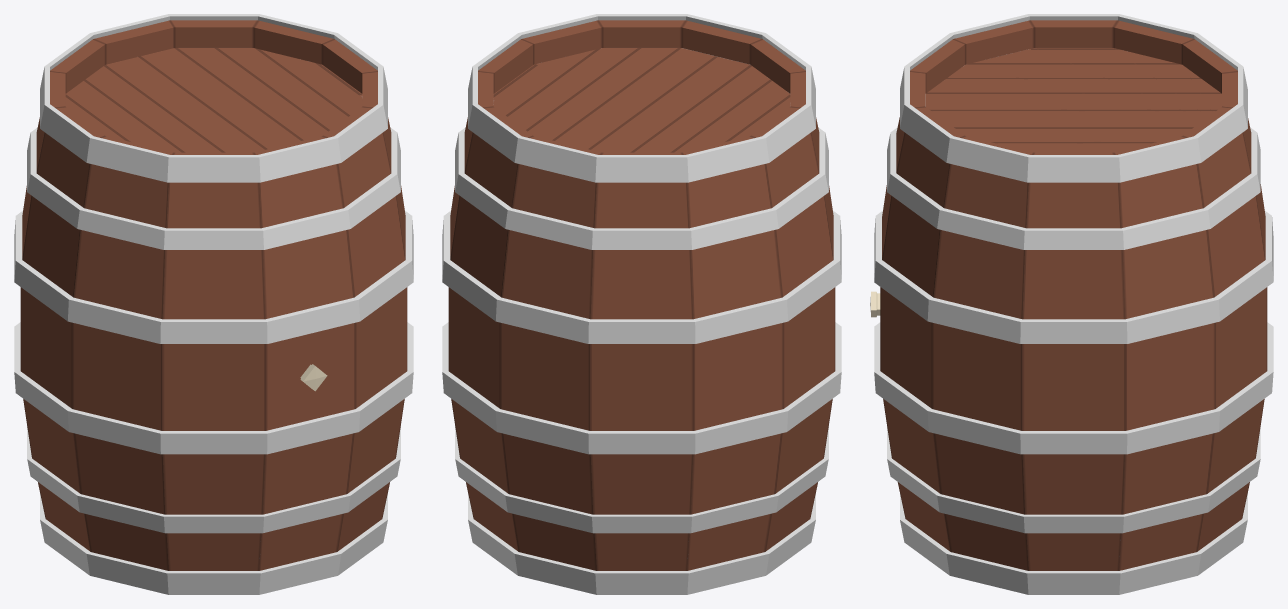
File: Barrel_LowDetail.fbx
The picture shows the model from 3 angles, left to right: view 1: azimuth 30°, elevation 25°; view 2: azimuth 150°, elevation 25°; view 3: azimuth 270°, elevation 25°; orthographic projection.
Visible parts, largest first — view 1: Barrel_LowDetail; view 2: Barrel_LowDetail; view 3: Barrel_LowDetail.
Boxes of the visible parts, bbox=[...] form: Barrel_LowDetail: bbox=[14, 14, 413, 594]; Barrel_LowDetail: bbox=[442, 14, 841, 594]; Barrel_LowDetail: bbox=[870, 14, 1273, 594].
Size of the model in its own units: 0.8265 by 0.9995 by 0.8343.
